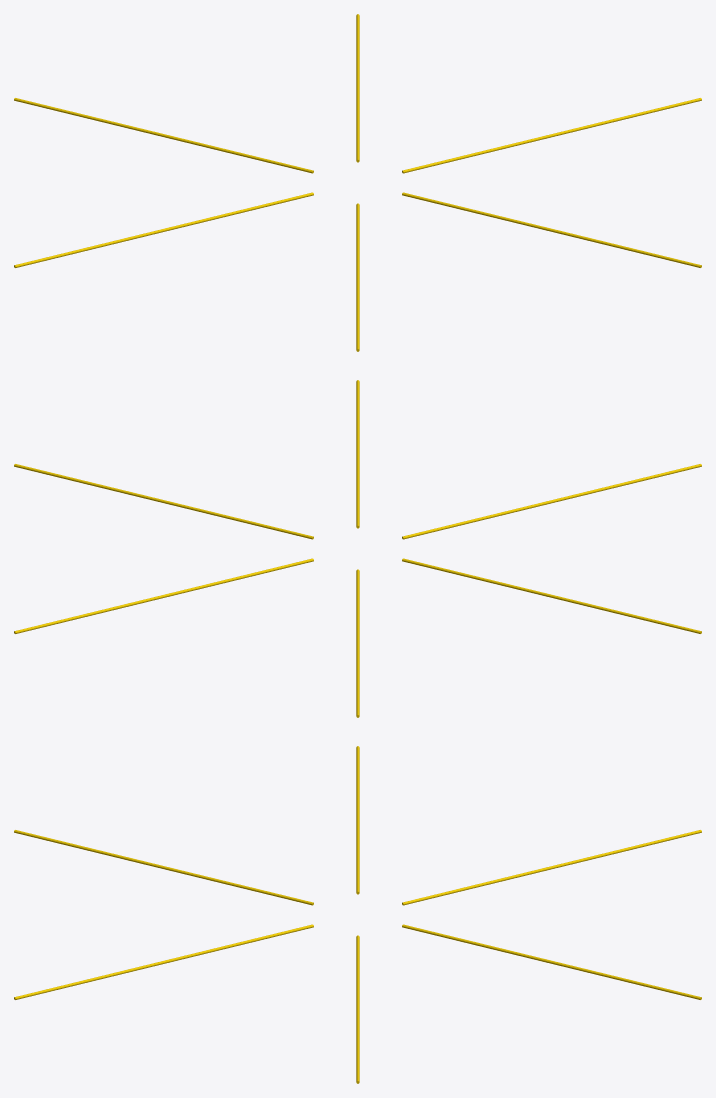
The model's file is tube_railway.glb.
3 views of the same model, one above another, from view 1: azimuth 30°, elevation 25°; view 2: azimuth 150°, elevation 25°; view 3: azimuth 270°, elevation 25° (orthographic).
Bounding box in the file's own units: 460 × 1.8 × 399.
